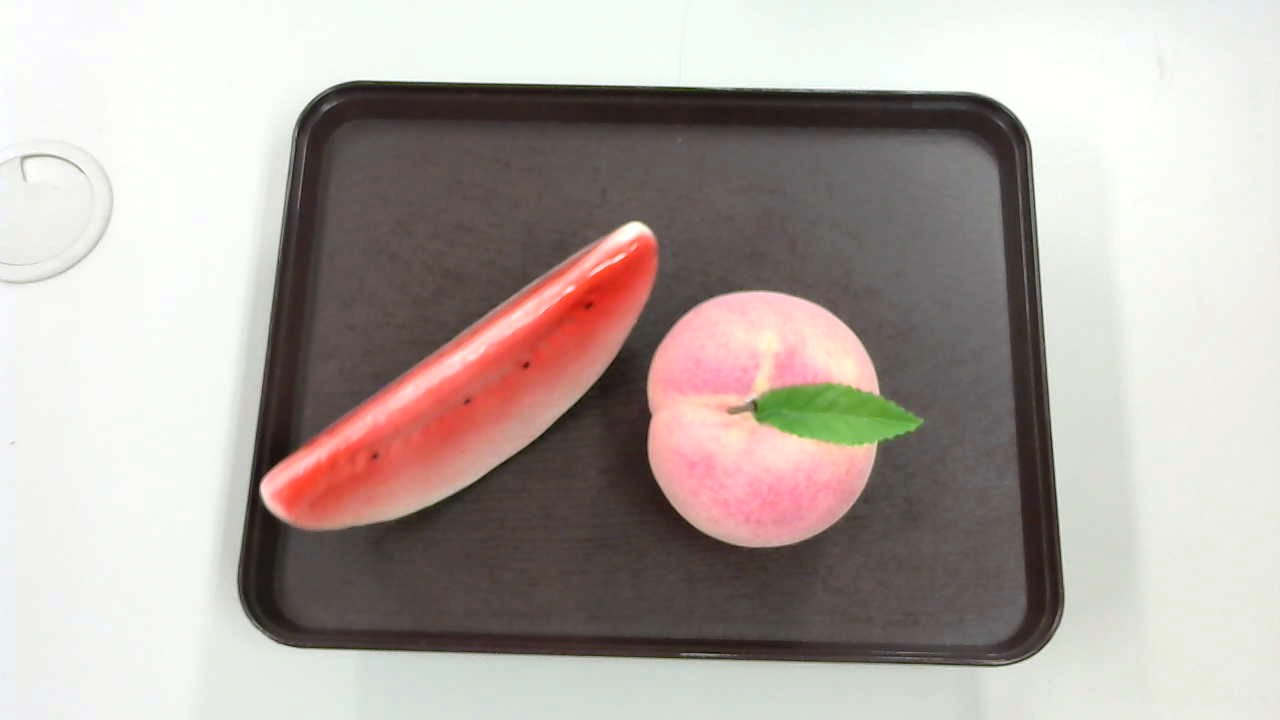peach: (638, 277, 928, 546)
water melon: (242, 214, 659, 541)
